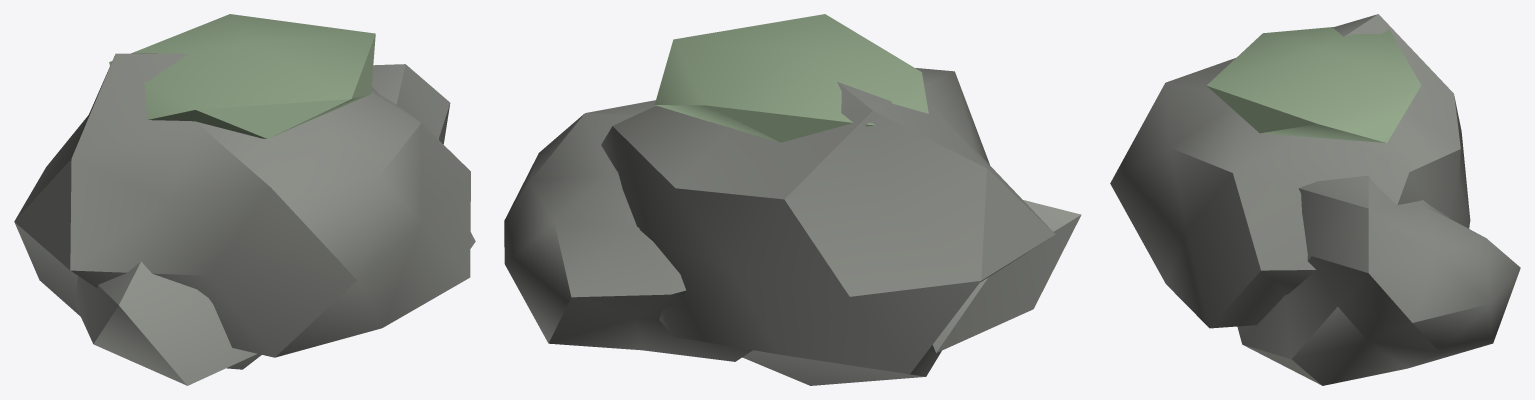
File: boulder_moss.gltf
3 renders of one model, left to right at view 1: azimuth 30°, elevation 25°; view 2: azimuth 150°, elevation 25°; view 3: azimuth 270°, elevation 25°, orthographic. The views are drawn at different scales.
Visible parts, largest first — view 1: Body; view 2: Body; view 3: Body.
Part boxes in pixels (x1,y1,x2,y2): Body: [14, 14, 475, 385]; Body: [504, 14, 1081, 385]; Body: [1110, 14, 1520, 385].
Bounding box in the file's own units: 3.25 × 2.25 × 2.84.
